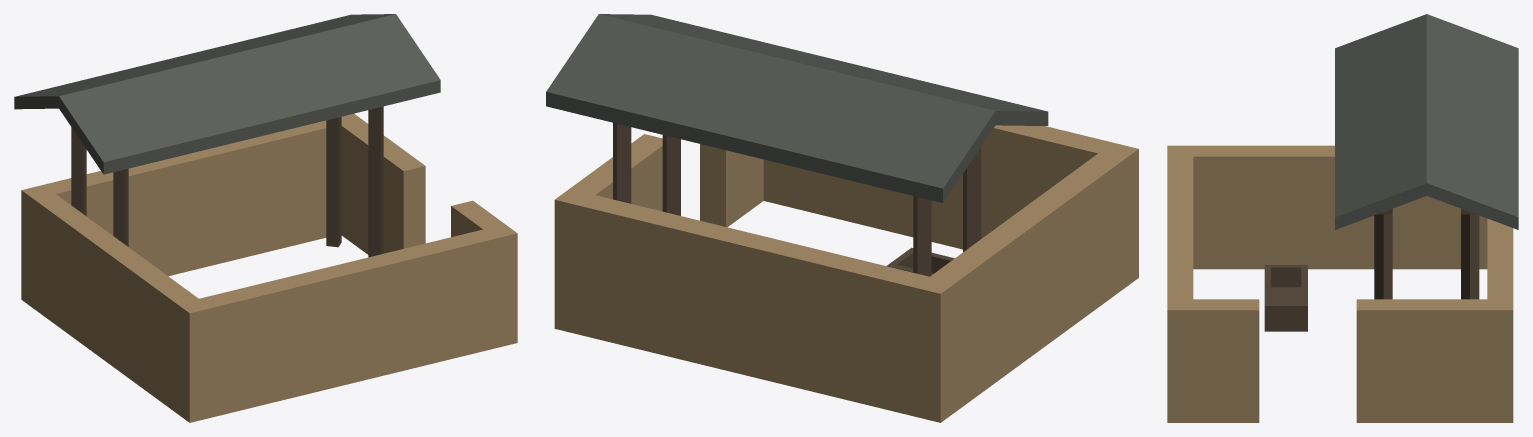
Rendered from service-enclosure-LOD2.glb.
3 views of the same model, side by side, from view 1: azimuth 30°, elevation 25°; view 2: azimuth 150°, elevation 25°; view 3: azimuth 270°, elevation 25° (orthographic). The views are drawn at different scales.
Visible parts, largest first — view 1: service-enclosure_earth, service-enclosure_tile, service-enclosure_timber; view 2: service-enclosure_earth, service-enclosure_tile, service-enclosure_timber; view 3: service-enclosure_earth, service-enclosure_tile, service-enclosure_timber.
Part boxes in pixels (x1,y1,x2,y2): service-enclosure_earth: [21, 113, 517, 422]; service-enclosure_tile: [14, 14, 440, 174]; service-enclosure_timber: [71, 106, 383, 257]; service-enclosure_earth: [554, 125, 1138, 422]; service-enclosure_tile: [546, 14, 1048, 202]; service-enclosure_timber: [613, 122, 981, 276]; service-enclosure_earth: [1167, 145, 1513, 422]; service-enclosure_tile: [1335, 14, 1518, 229]; service-enclosure_timber: [1264, 208, 1479, 331].
Size of the model in its own units: 3.7 by 2.47 by 3.25.
